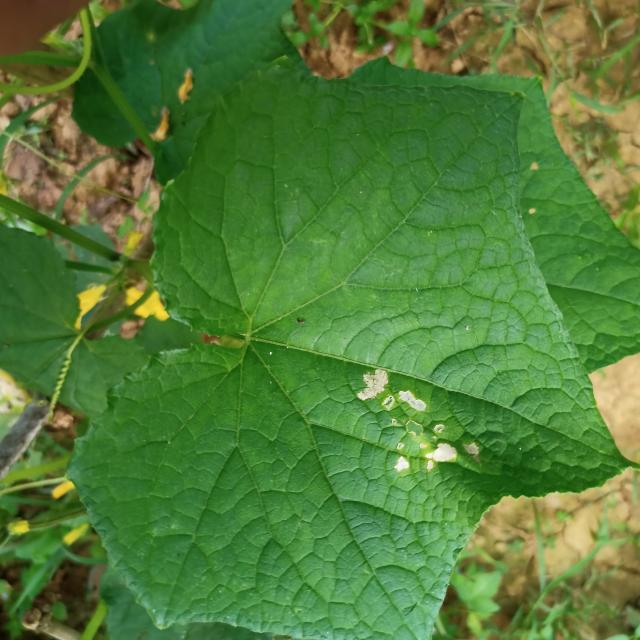disease_cucumber: (354, 358, 482, 478)
